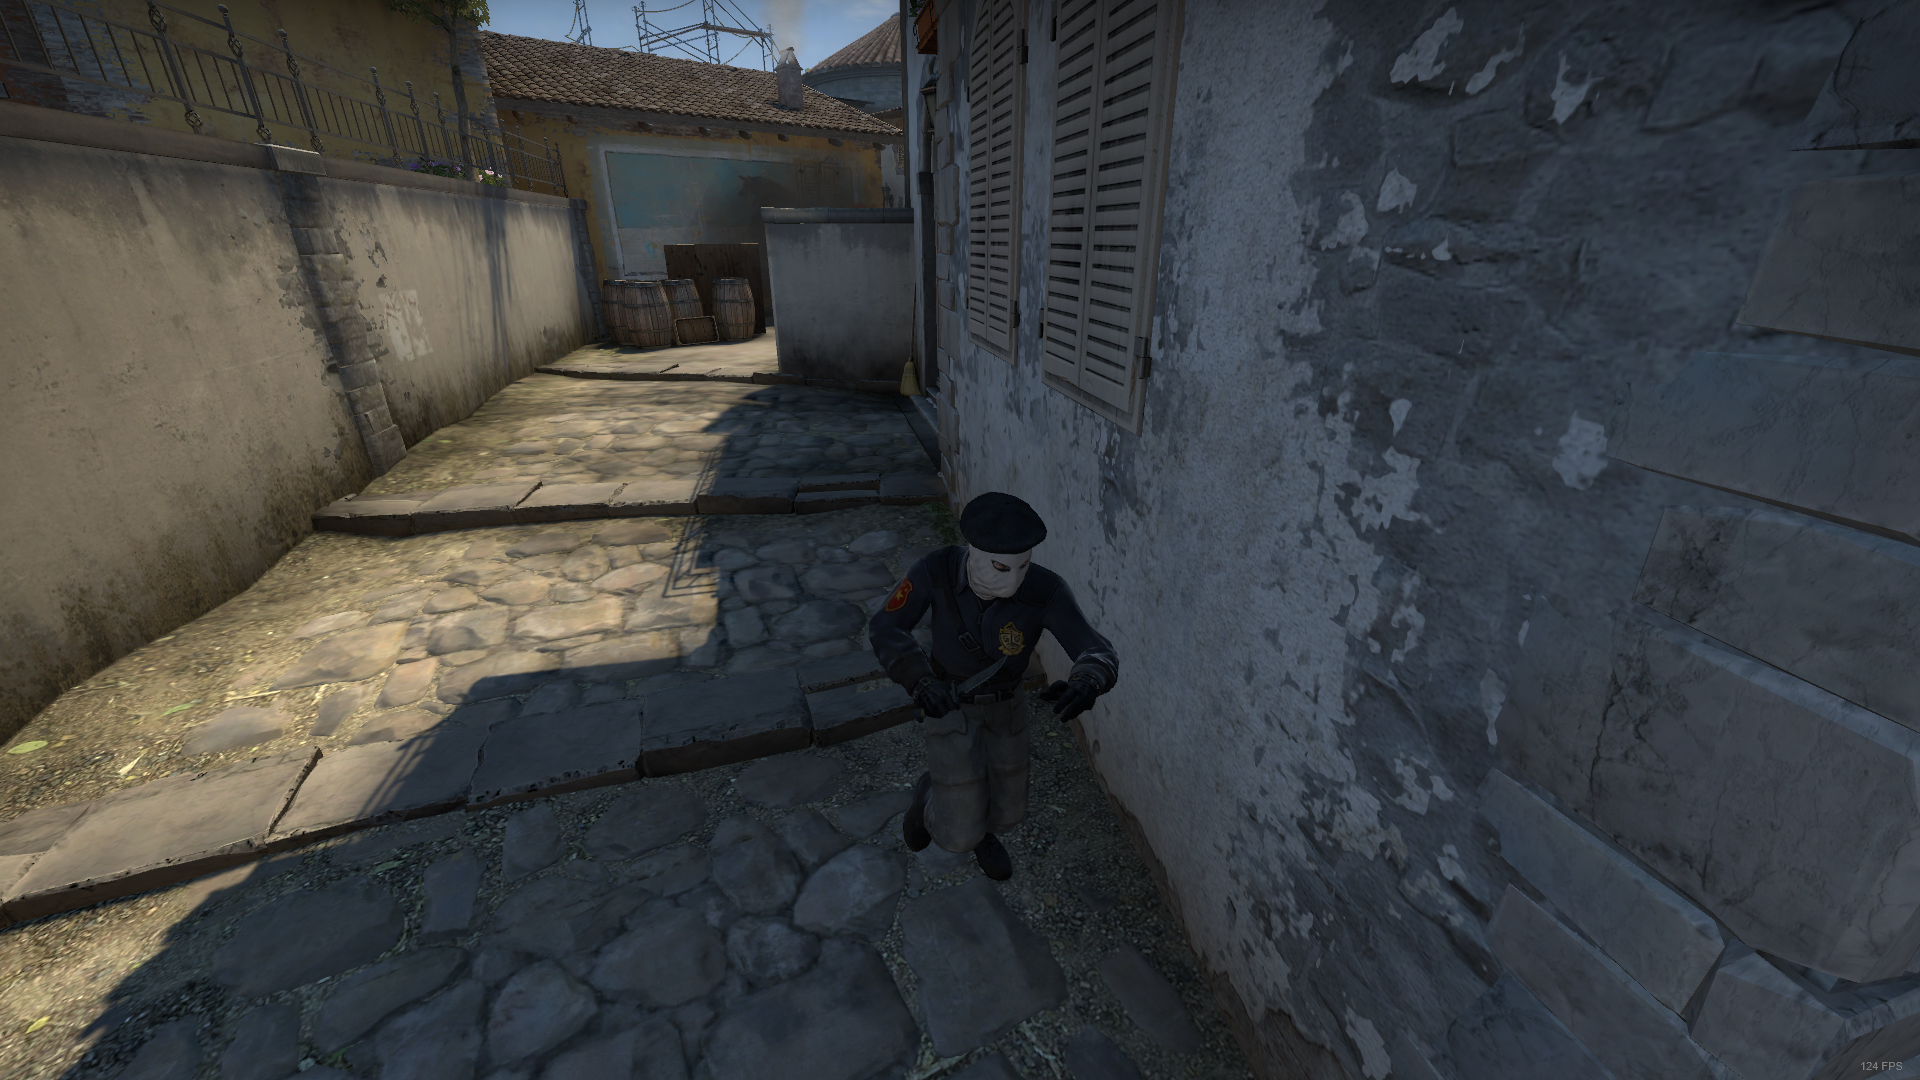t: (858, 489, 1130, 903)
